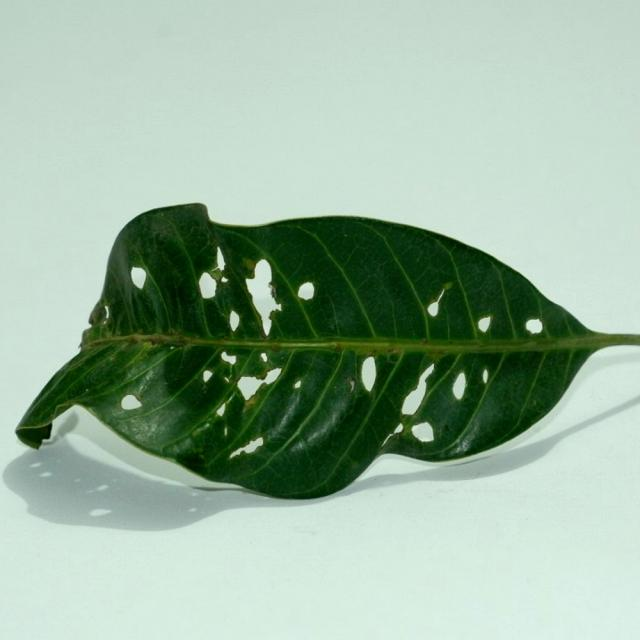Anthracnose: (225, 255, 285, 339), (357, 357, 385, 396), (401, 383, 426, 417), (238, 372, 262, 400), (197, 269, 220, 298), (412, 420, 436, 442), (252, 258, 272, 283), (451, 374, 468, 401), (262, 365, 283, 386), (120, 393, 143, 410), (130, 266, 147, 288), (296, 281, 315, 300), (475, 314, 493, 333), (524, 318, 543, 334), (228, 309, 241, 332), (215, 246, 226, 272), (221, 350, 237, 365), (427, 300, 441, 317), (253, 435, 266, 449), (217, 402, 227, 418), (482, 368, 490, 385), (101, 304, 109, 320)
Mango: (15, 204, 639, 504)
